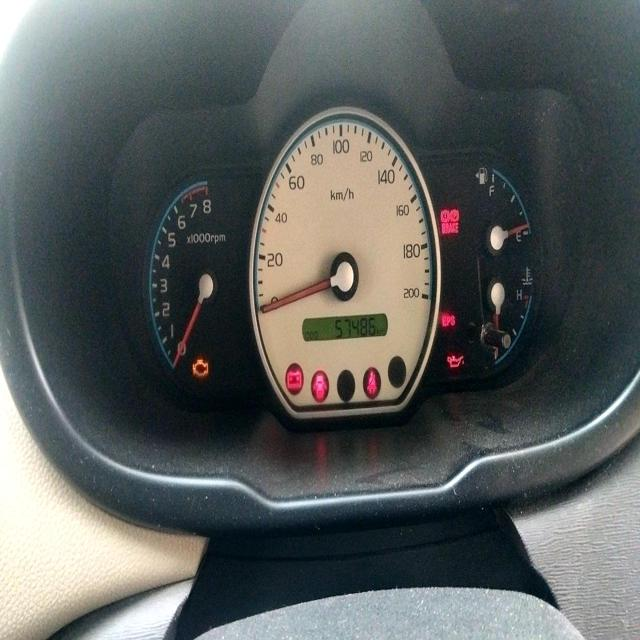odometer: (333, 314, 377, 340)
